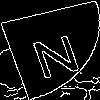N: (25, 25, 84, 79)
